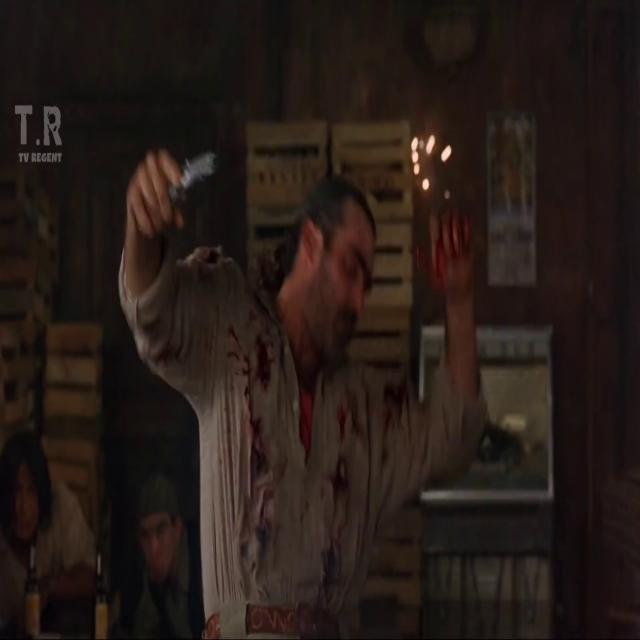handgun: (164, 128, 225, 261)
